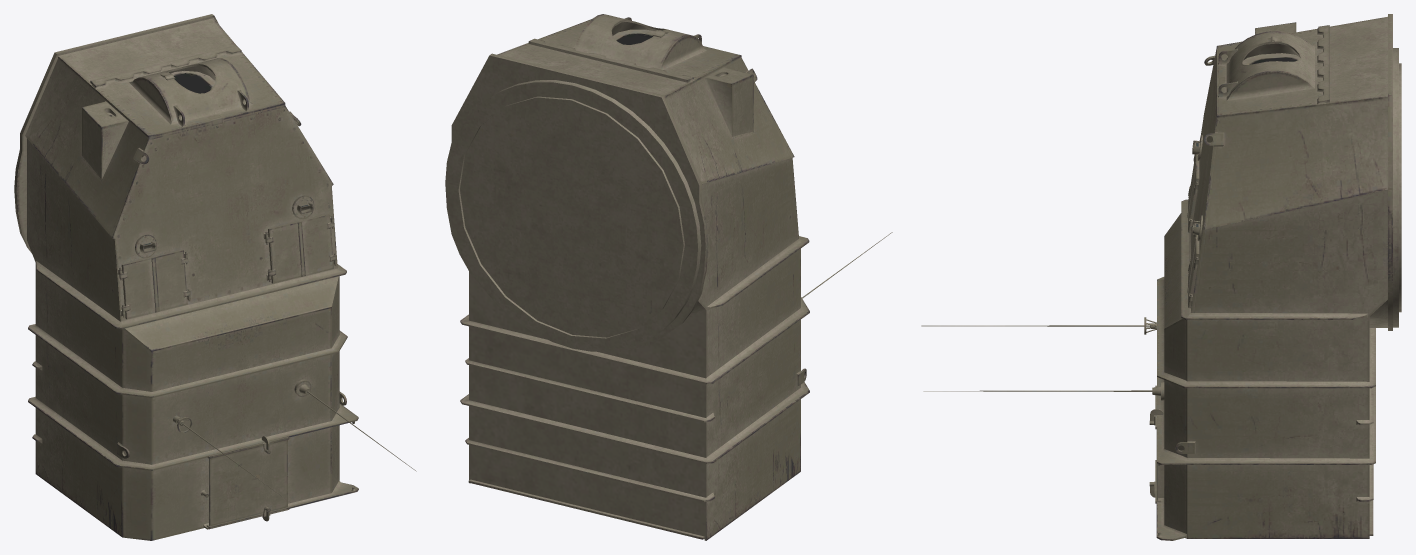
Rendered from Turret_01.glb.
3 renders of one model, left to right at view 1: azimuth 30°, elevation 25°; view 2: azimuth 150°, elevation 25°; view 3: azimuth 270°, elevation 25°, orthographic. The views are drawn at different scales.
Visible parts, largest first — view 1: set_0_group_0; view 2: set_0_group_0; view 3: set_0_group_0.
Boxes of the visible parts, left/top/right/bottom form: set_0_group_0: left=14, top=14, right=416, bottom=540; set_0_group_0: left=445, top=14, right=892, bottom=540; set_0_group_0: left=921, top=14, right=1401, bottom=540.
Size of the model in its own units: 2.28 by 3.8 by 3.77.
1 material, 1 textured.
